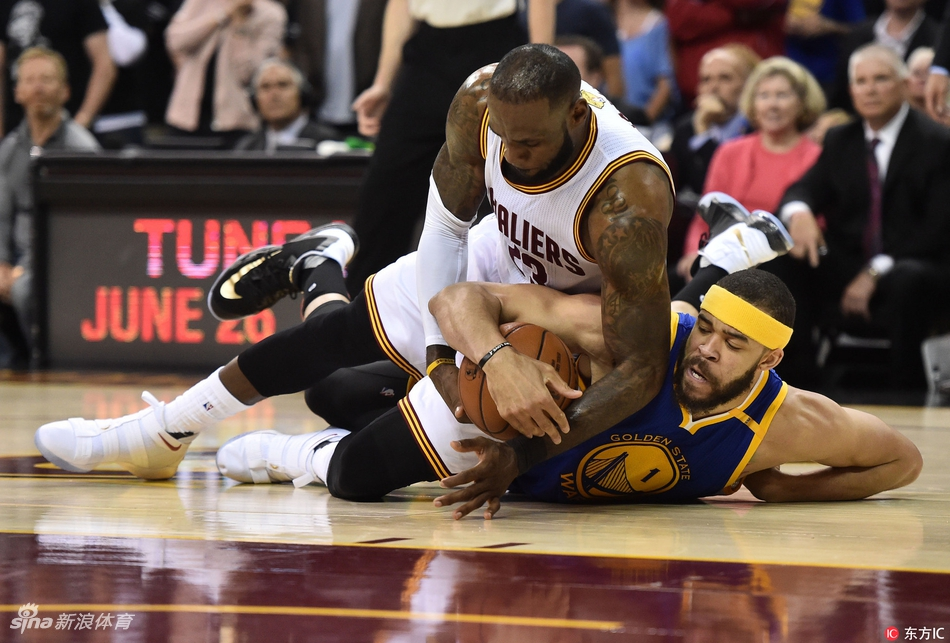10+: (1, 2, 950, 555)
down: (27, 35, 681, 493), (426, 241, 926, 511)
